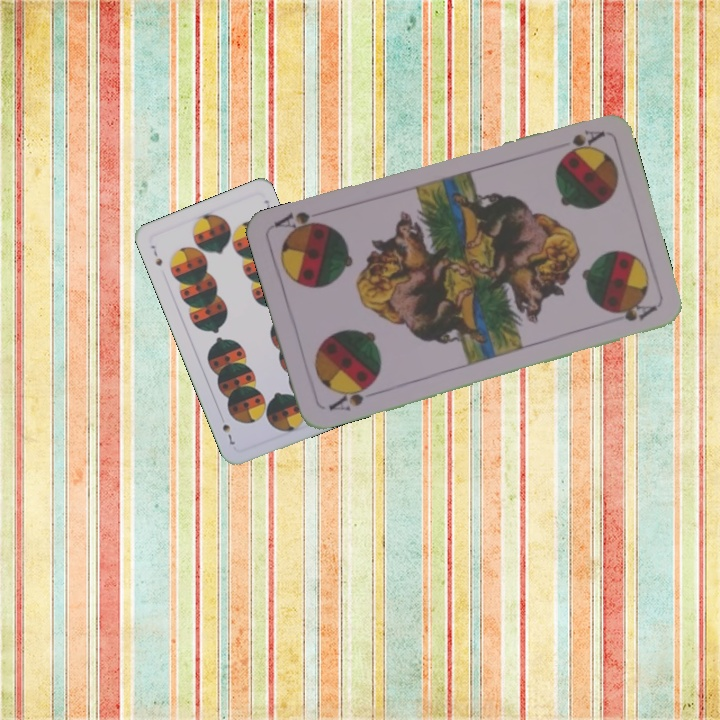S7: (146, 241, 165, 269)
SA: (324, 379, 376, 414), (558, 126, 607, 159)
